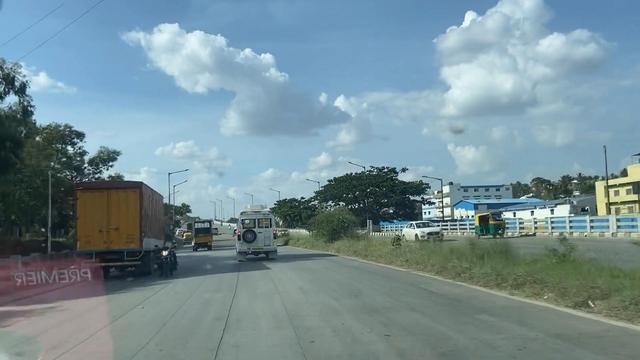HMV: (70, 181, 160, 277), (235, 205, 281, 266)
LMV: (156, 234, 181, 278)
